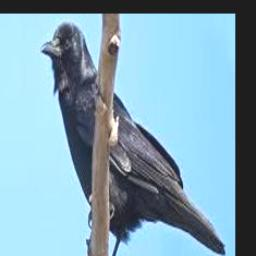Crow: (41, 19, 227, 256)
